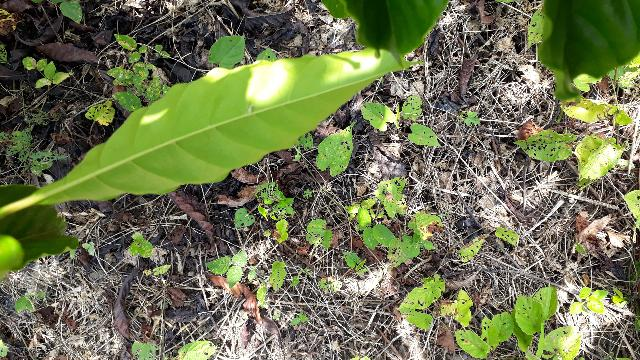healthy: (37, 49, 420, 199)
